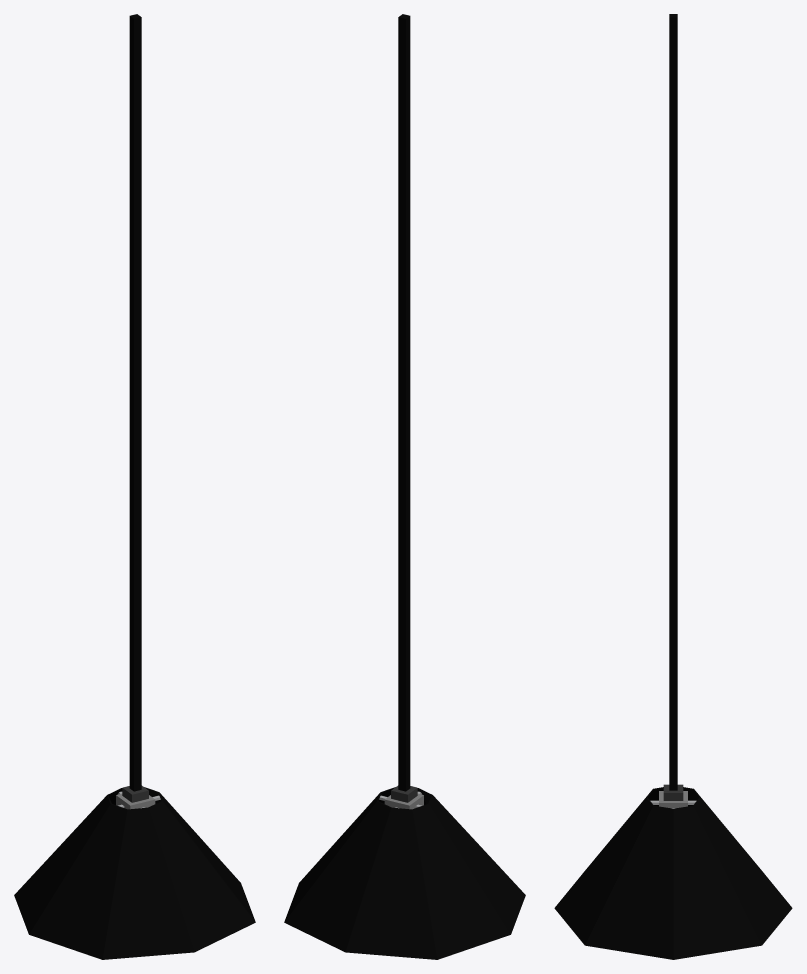
The model's file is OverHeadLight.fbx.
3 renders of one model, left to right at view 1: azimuth 30°, elevation 25°; view 2: azimuth 150°, elevation 25°; view 3: azimuth 270°, elevation 25°, orthographic.
Parts seen in each view (by area): view 1: Cube.021; view 2: Cube.021; view 3: Cube.021.
Part boxes in pixels (bbox=[...]): Cube.021: bbox=[14, 14, 255, 959]; Cube.021: bbox=[284, 14, 525, 959]; Cube.021: bbox=[554, 14, 792, 959].
Bounding box in the file's own units: 277 × 1112 × 269.
